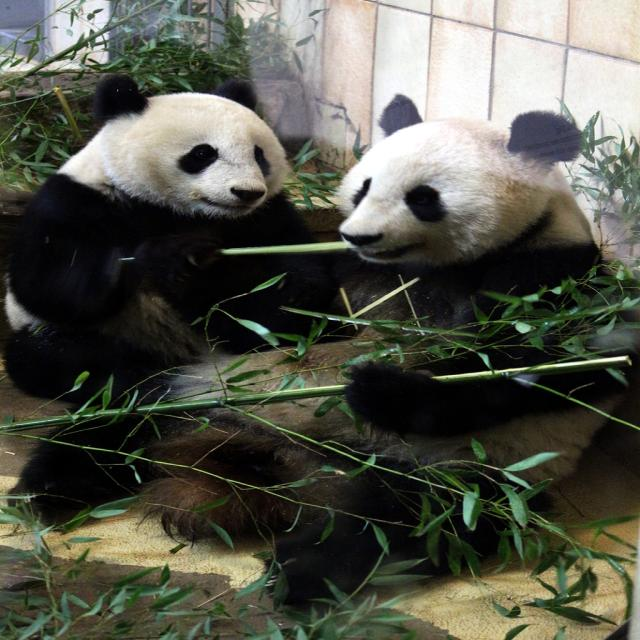panda: (6, 91, 638, 612), (0, 69, 331, 404), (335, 92, 613, 296)
